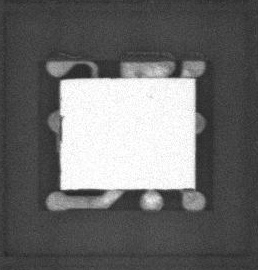DIE_BROKEN: (58, 112, 64, 142)
